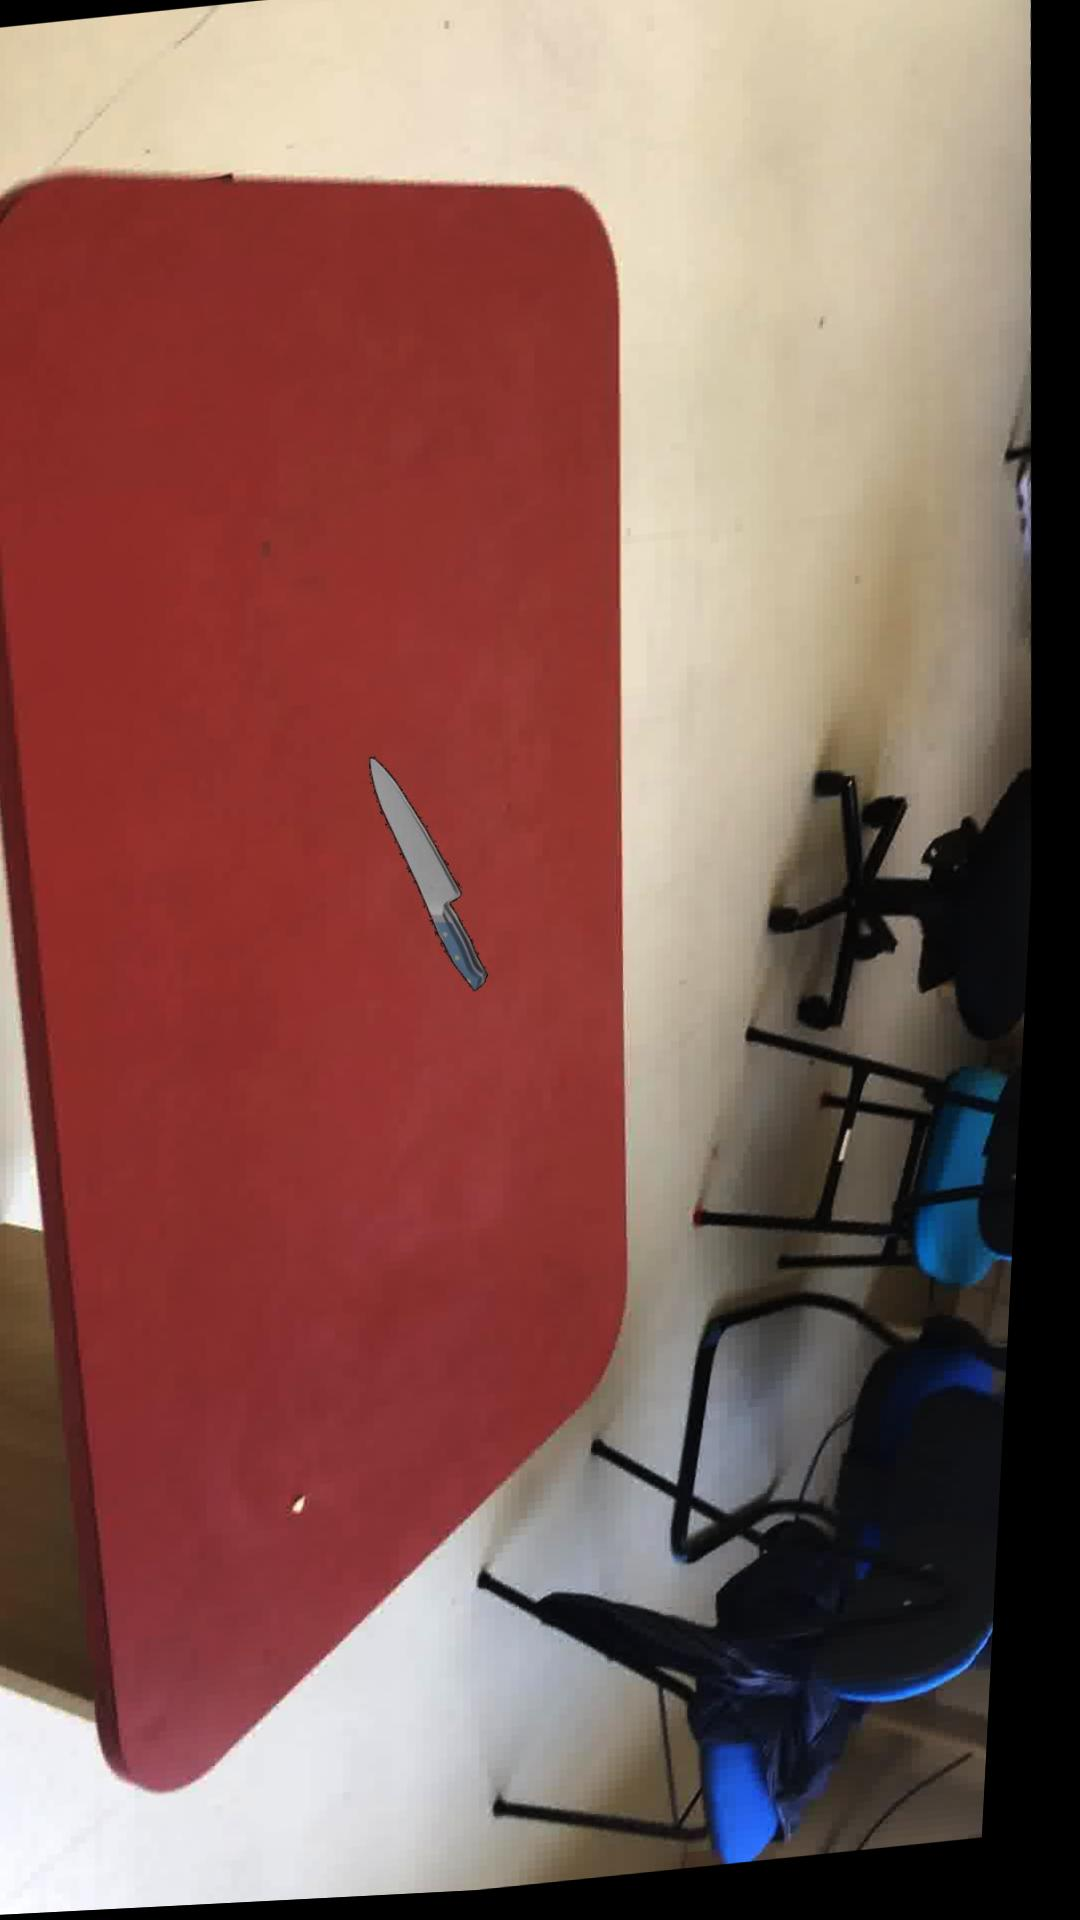knife: (376, 760, 497, 994)
